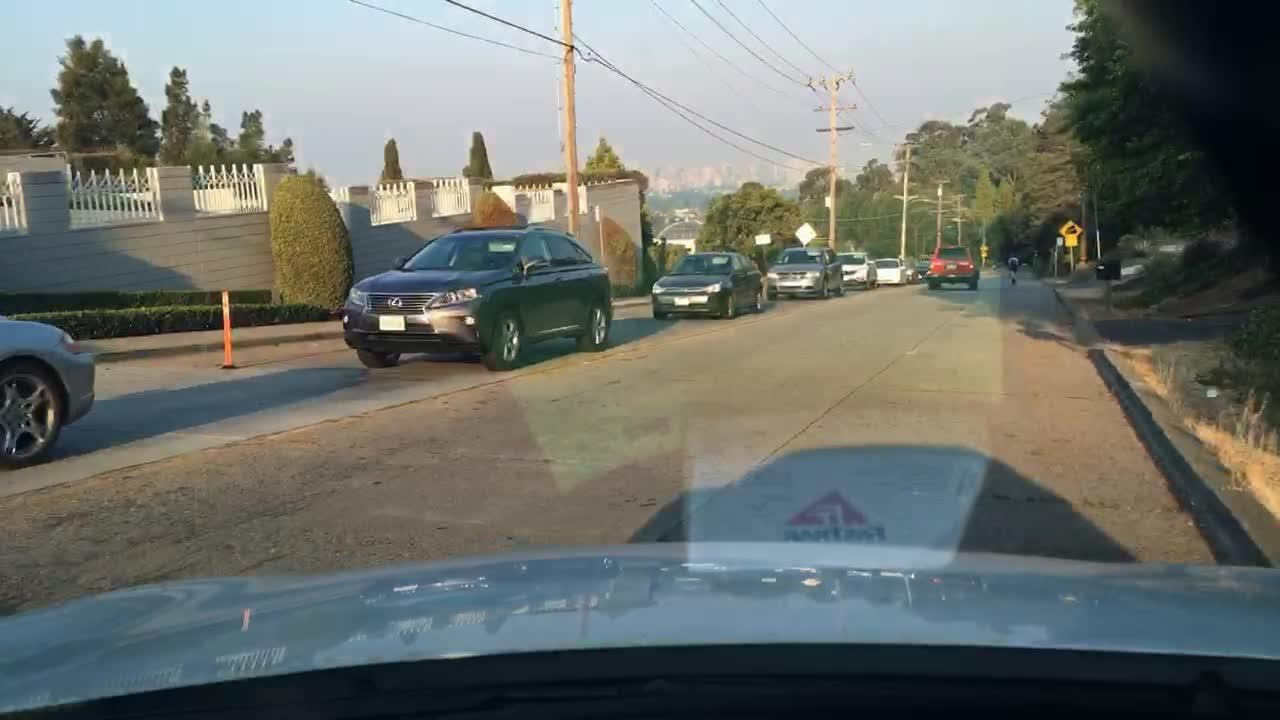lexus: (382, 293, 411, 316)
